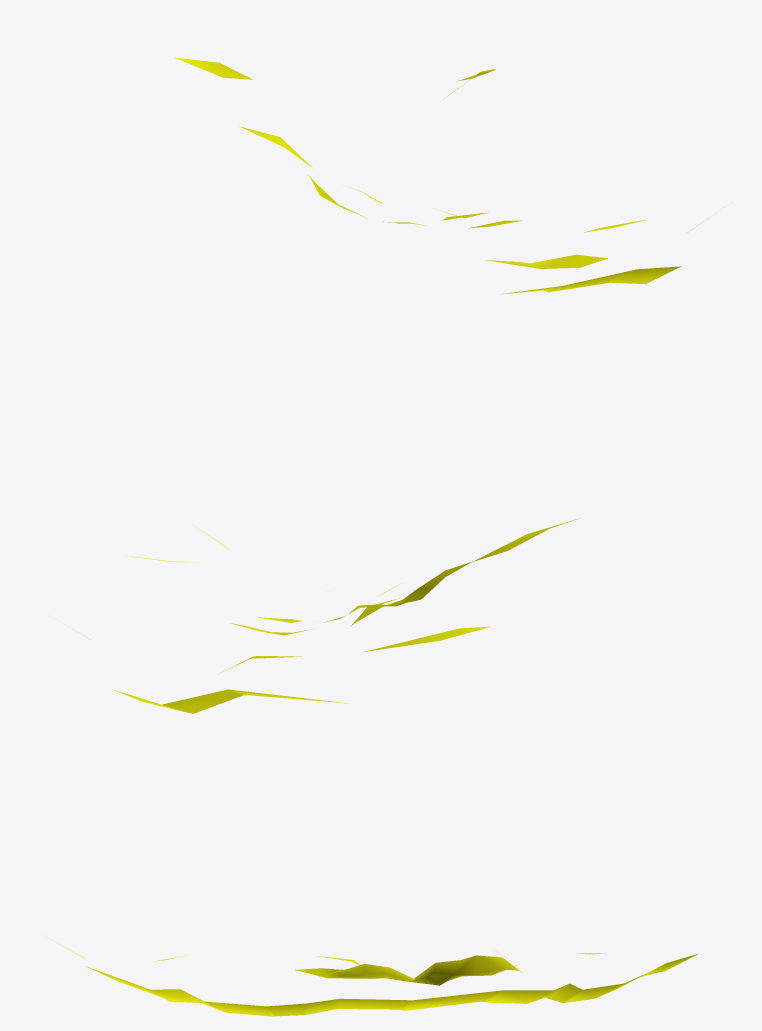
File: cliff_dome_00.glb
The picture shows the model from 3 angles, top to bottom: view 1: azimuth 30°, elevation 25°; view 2: azimuth 150°, elevation 25°; view 3: azimuth 270°, elevation 25°; orthographic projection. The views are drawn at different scales.
Parts seen in each view (by area): view 1: cliff_dome_00; view 2: cliff_dome_00; view 3: cliff_dome_00.
Part boxes in pixels (left/top/right/bottom): cliff_dome_00: left=174, top=57, right=721, bottom=294; cliff_dome_00: left=61, top=518, right=580, bottom=713; cliff_dome_00: left=49, top=938, right=698, bottom=1016.
Size of the model in its own units: 283 by 45.98 by 348.
Materials: 1 (1 with a texture image).
